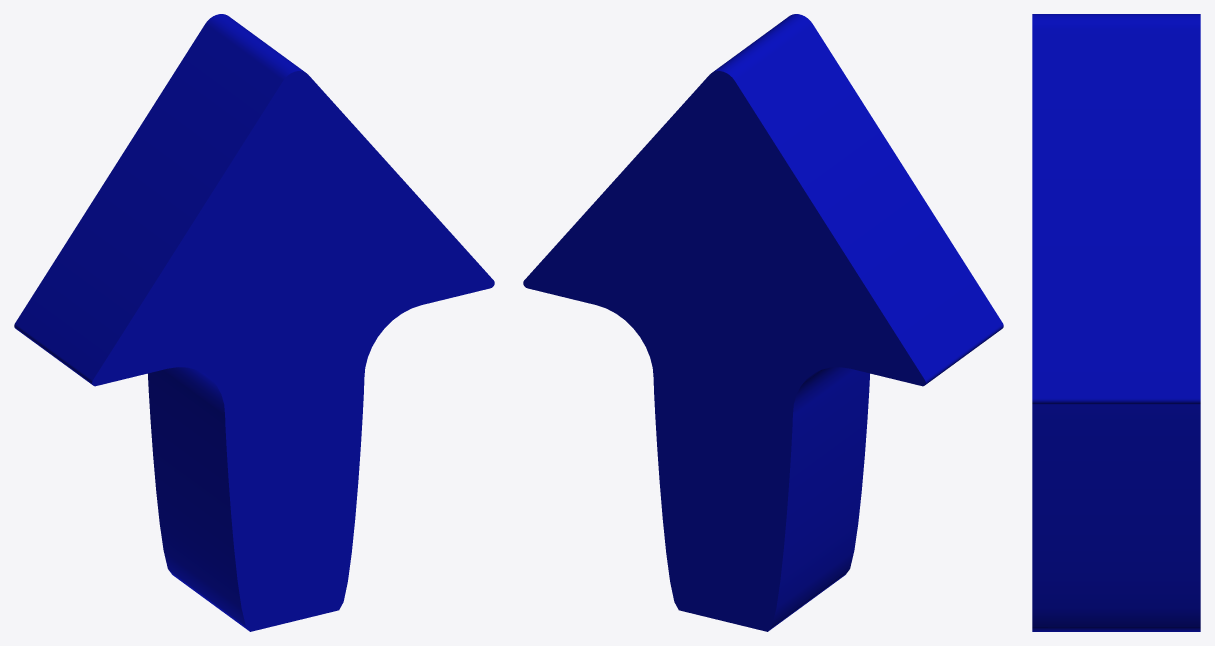
File: Joystick_element_5.FBX
3 renders of one model, left to right at view 1: azimuth 30°, elevation 25°; view 2: azimuth 150°, elevation 25°; view 3: azimuth 270°, elevation 25°, orthographic. The views are drawn at different scales.
Visible parts, largest first — view 1: Joystick_element_5; view 2: Joystick_element_5; view 3: Joystick_element_5.
Part boxes in pixels (<box>): Joystick_element_5: <box>14,14,494,631</box>; Joystick_element_5: <box>523,14,1003,631</box>; Joystick_element_5: <box>1032,14,1200,631</box>.
Size of the model in its own units: 8.95 by 11.68 by 3.
